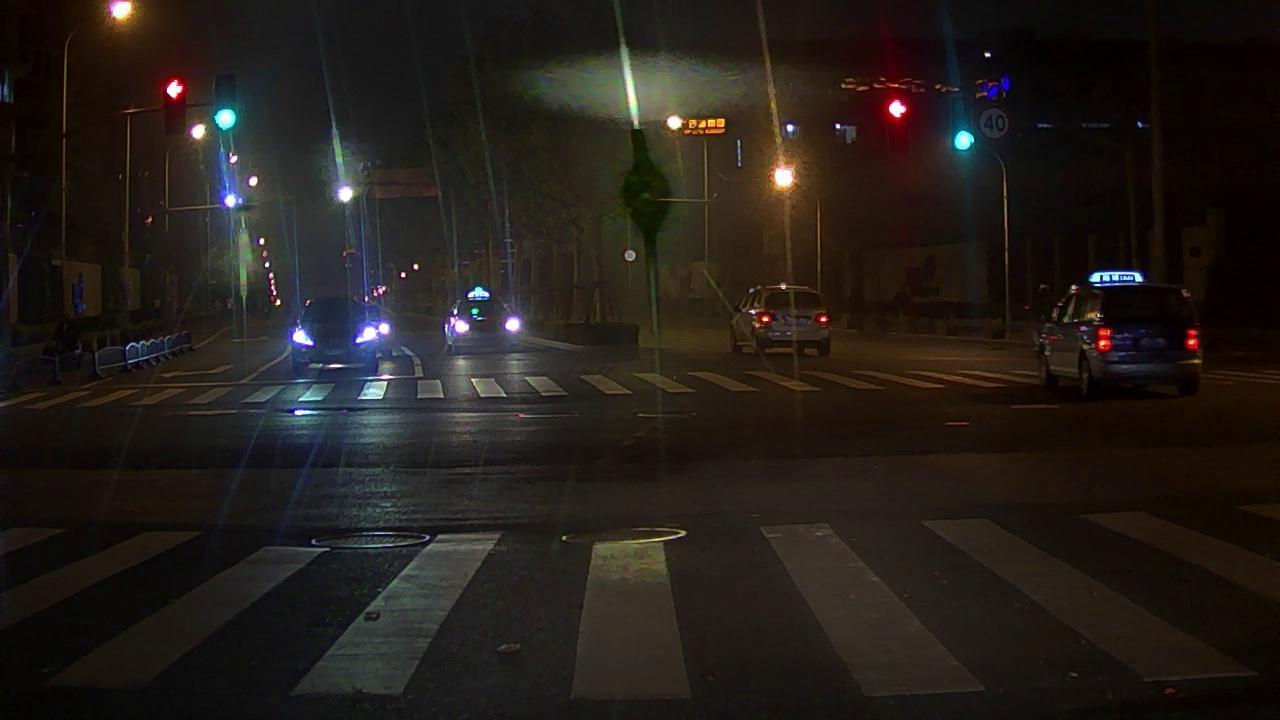traffic_light: (217, 77, 238, 131), (166, 84, 182, 131), (954, 128, 972, 151), (890, 101, 909, 118)
